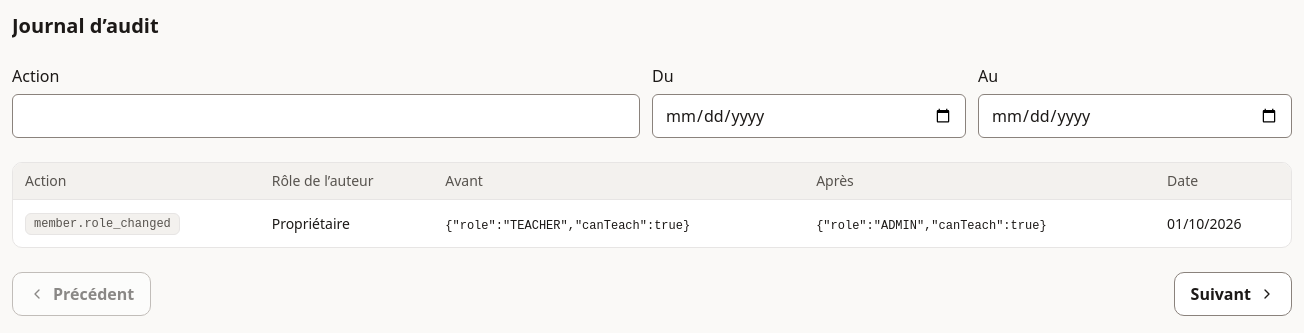
Test: AuditLogPanel › Suivant then Précédent requests the first page (no cursor) again
This screenshot has width=1304, height=333.
Expected: the row with test id "audit-member.role_changed" is shown, [13,200,1291,247]
Expected: the button "Précédent" is disabled, [12,272,151,316]
Click the button "Suivant": (1233, 294) [1174,272,1292,316]
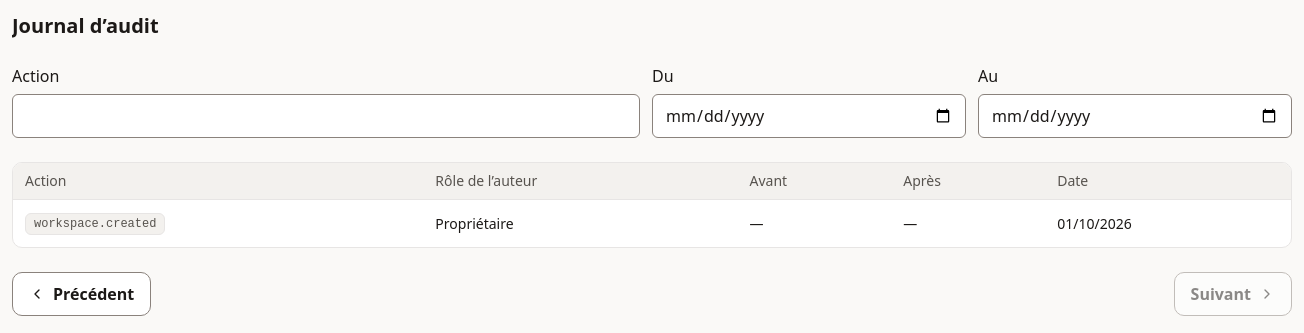
Expected: the row with test id "audit-workspace.created" is shown, [13,200,1291,247]
Expected: the button "Suivant" is disabled, [1174,272,1292,316]
Click the button "Précédent": (82, 294) [12,272,151,316]
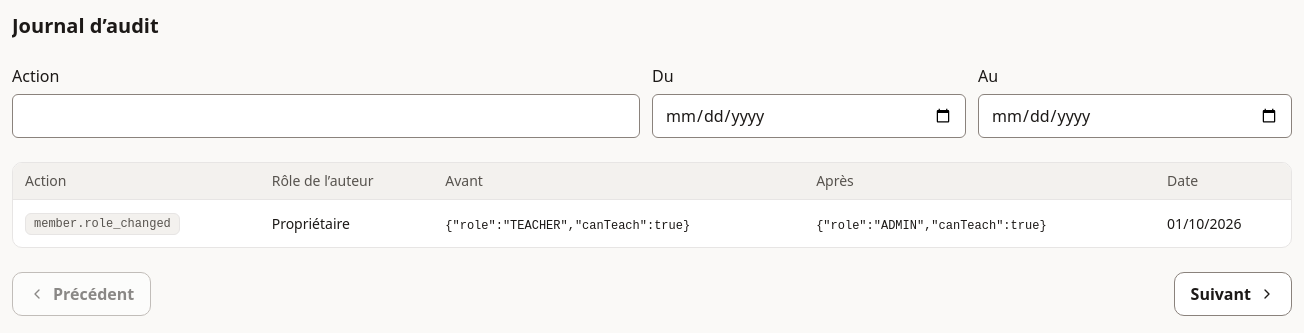
Expected: the row with test id "audit-member.role_changed" is shown, [13,200,1291,247]
